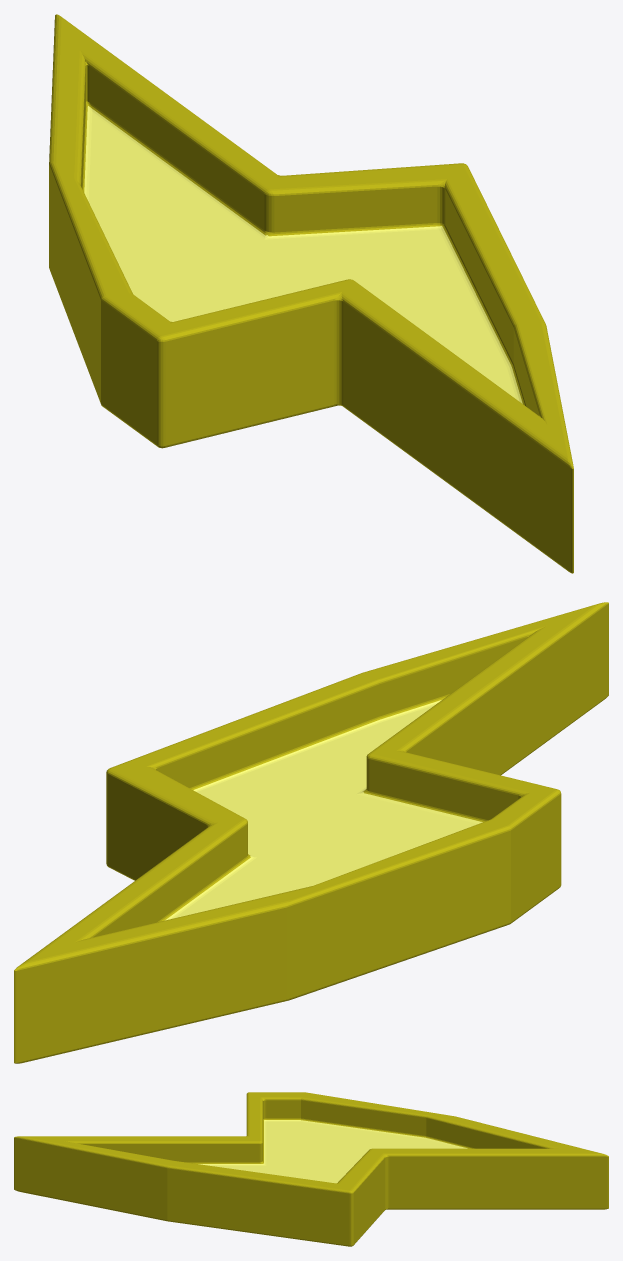
Rendered from SM_Energy_Symbol.fbx.
3 renders of one model, top to bottom at view 1: azimuth 30°, elevation 25°; view 2: azimuth 150°, elevation 25°; view 3: azimuth 270°, elevation 25°, orthographic. The views are drawn at different scales.
Visible parts, largest first — view 1: SM_Energy_Symbol; view 2: SM_Energy_Symbol; view 3: SM_Energy_Symbol.
Part boxes in pixels (box(x1,y1,x2,y2)): SM_Energy_Symbol: box(49, 14, 573, 573); SM_Energy_Symbol: box(14, 602, 608, 1063); SM_Energy_Symbol: box(14, 1092, 608, 1246).
Size of the model in its own units: 7.11 by 1.84 by 17.8.
